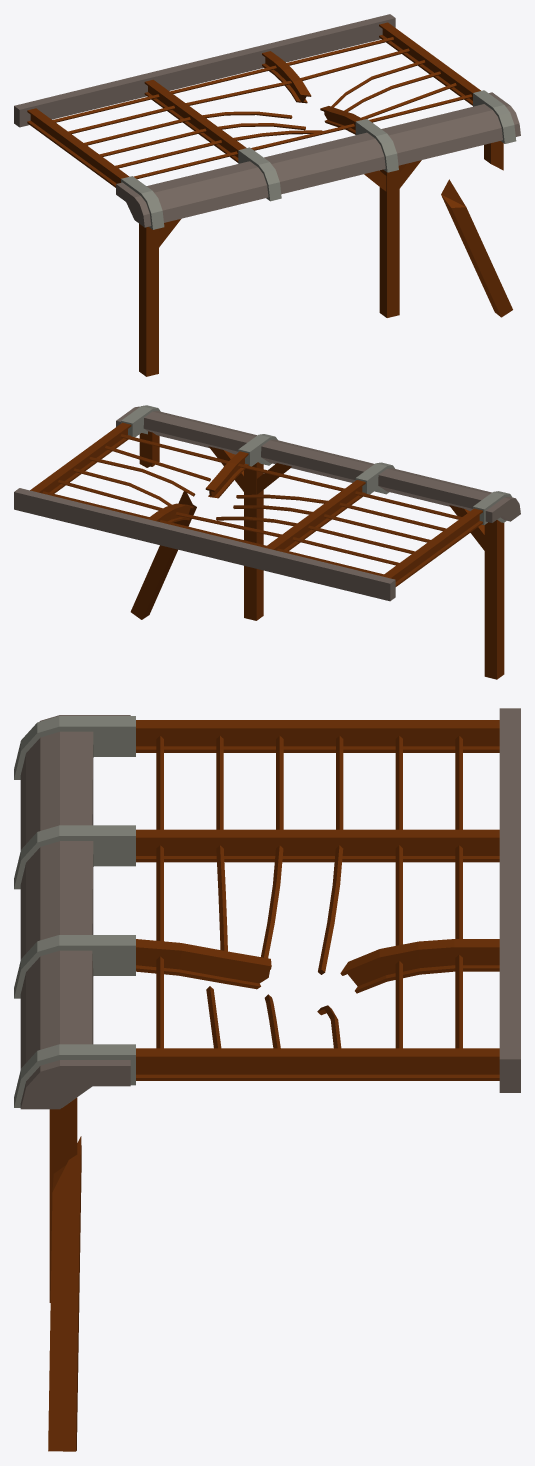
The model's file is LP_PostApoc_MetalShelter.fbx.
3 views of the same model, one above another, from view 1: azimuth 30°, elevation 25°; view 2: azimuth 150°, elevation 25°; view 3: azimuth 270°, elevation 25° (orthographic). The views are drawn at different scales.
Visible parts, largest first — view 1: MetalShelter; view 2: MetalShelter; view 3: MetalShelter.
Part boxes in pixels (x1,y1,x2,y2): MetalShelter: (14, 14, 520, 376); MetalShelter: (14, 405, 520, 679); MetalShelter: (14, 708, 520, 1451).
Size of the model in its own units: 664 by 355 by 405.
